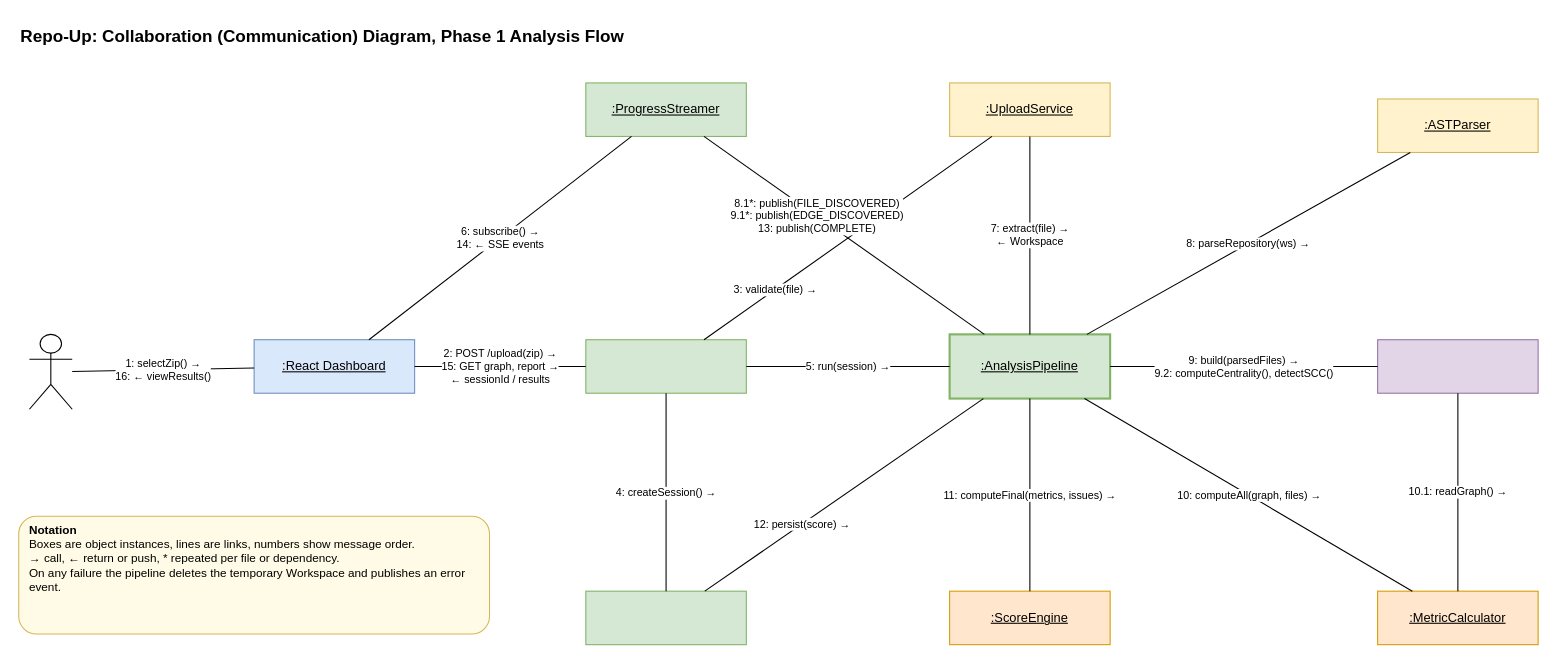
This 1557x663 diagram has some shape labels left out. The box of each missing label's shape, as (x1, y1, x2, y2) in pixels:
:AnalysisController: (585, 339, 746, 393)
:DependencyGraph: (1377, 339, 1538, 393)
:Session (PostgreSQL): (585, 590, 746, 645)
Developer: (28, 333, 72, 409)
